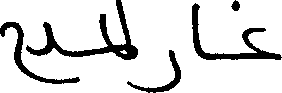ا: (113, 0, 137, 49), (188, 0, 201, 59)
ح: (0, 20, 23, 75)
ر: (145, 47, 182, 90)
غ: (226, 0, 280, 61)
ل: (91, 11, 114, 50), (43, 19, 55, 60)
م: (103, 39, 140, 61)
